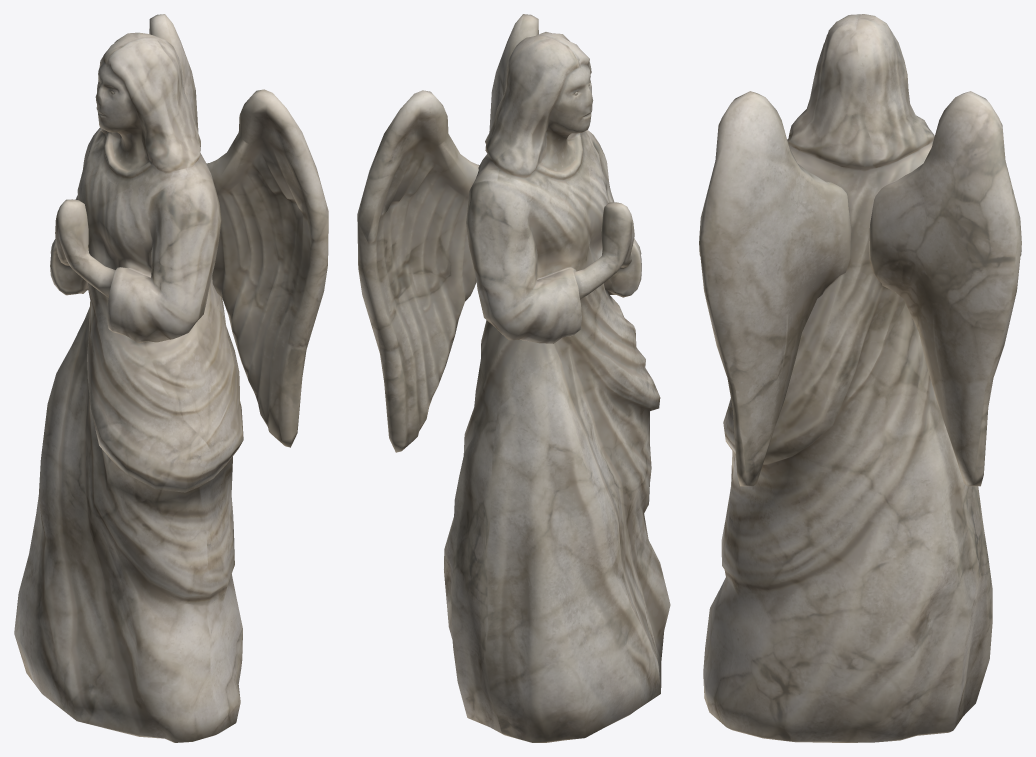
File: SM_Statue.fbx
3 views of the same model, side by side, from view 1: azimuth 30°, elevation 25°; view 2: azimuth 150°, elevation 25°; view 3: azimuth 270°, elevation 25° (orthographic). The views are drawn at different scales.
Visible parts, largest first — view 1: SM_Statue_LOD0; view 2: SM_Statue_LOD0; view 3: SM_Statue_LOD0.
Boxes of the visible parts, x1,y1,x2,y2 form: SM_Statue_LOD0: [14, 14, 328, 742]; SM_Statue_LOD0: [357, 14, 670, 742]; SM_Statue_LOD0: [699, 14, 1021, 742].
Bounding box in the file's own units: 151 × 186 × 442.
1 material, 1 textured.
